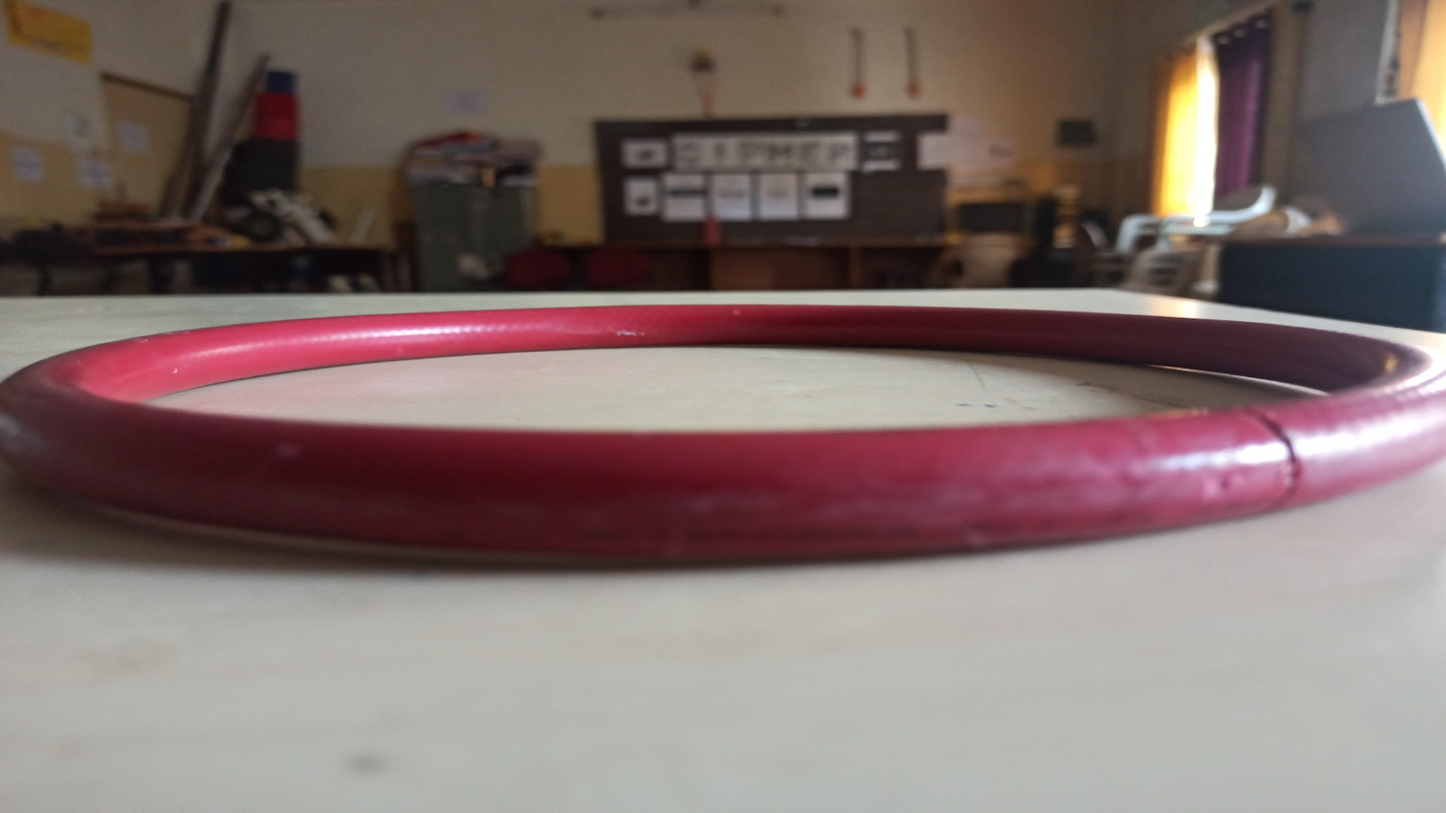Red ring: (1, 300, 1446, 553)
